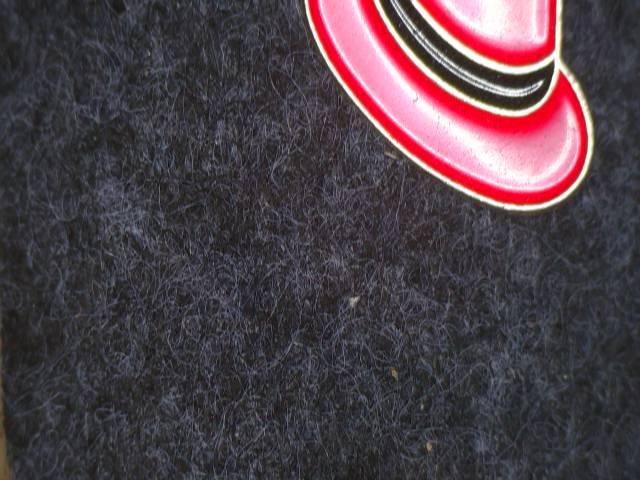Red-Hat: (262, 0, 607, 268)
